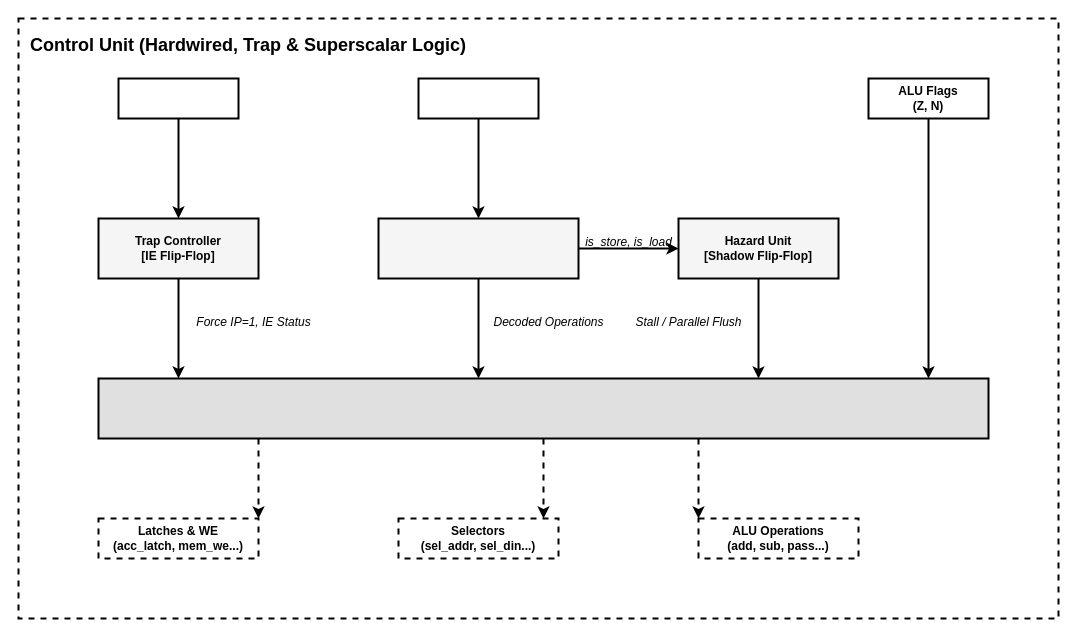
Image size: 1076x636. Some labels were removed from this diagram. The centre of each missing label's shape, as x and y in pixels:
"Control Signal Generator (Combinational Logic Matrix)" goes at (543,408).
"Instruction Decoder (Combinational)" goes at (478,248).
"IR [Opcode] (8 bit)" goes at (478,98).
"IRQ Line (External)" goes at (178,98).
